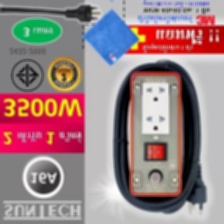three_eye_plug: (126, 69, 184, 199)
